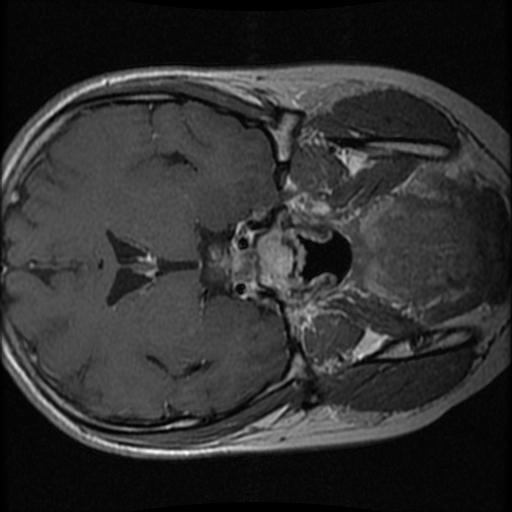pituitary tumour: (229, 251, 257, 284)
